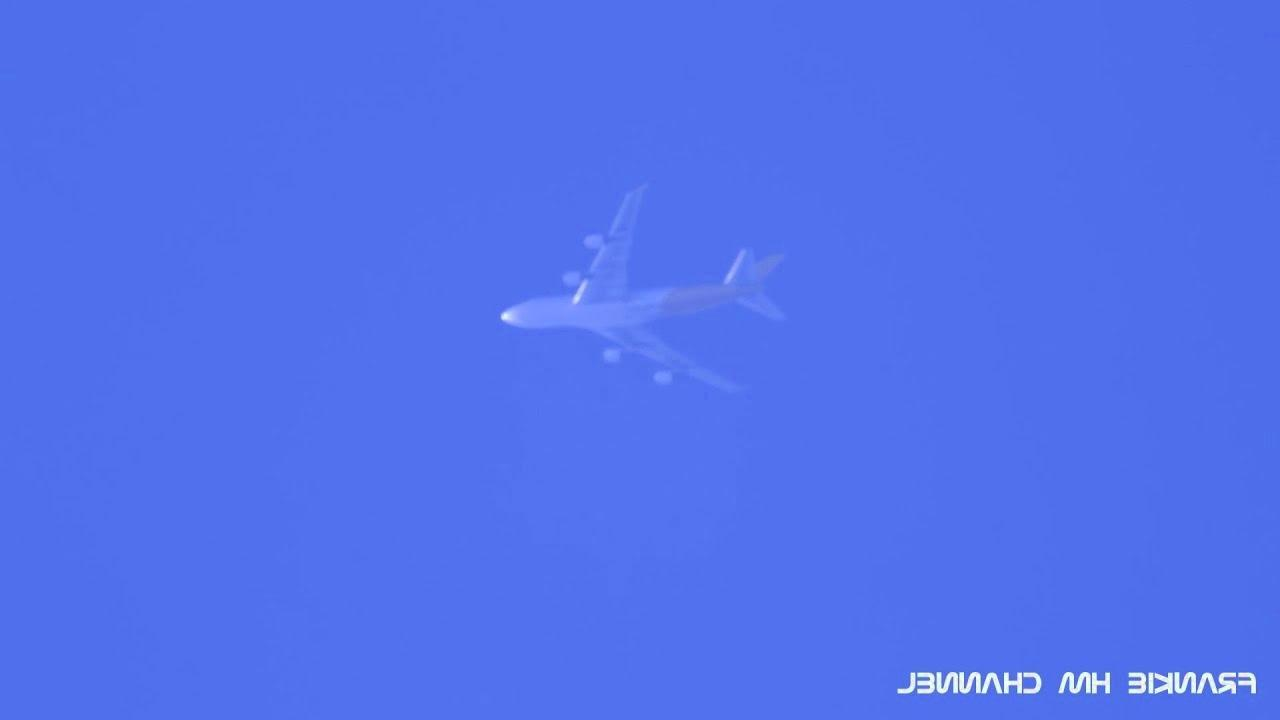Plane: (420, 171, 860, 415)
